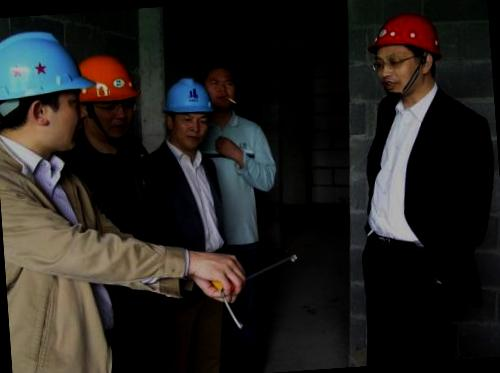no_helmet: (198, 54, 244, 108)
